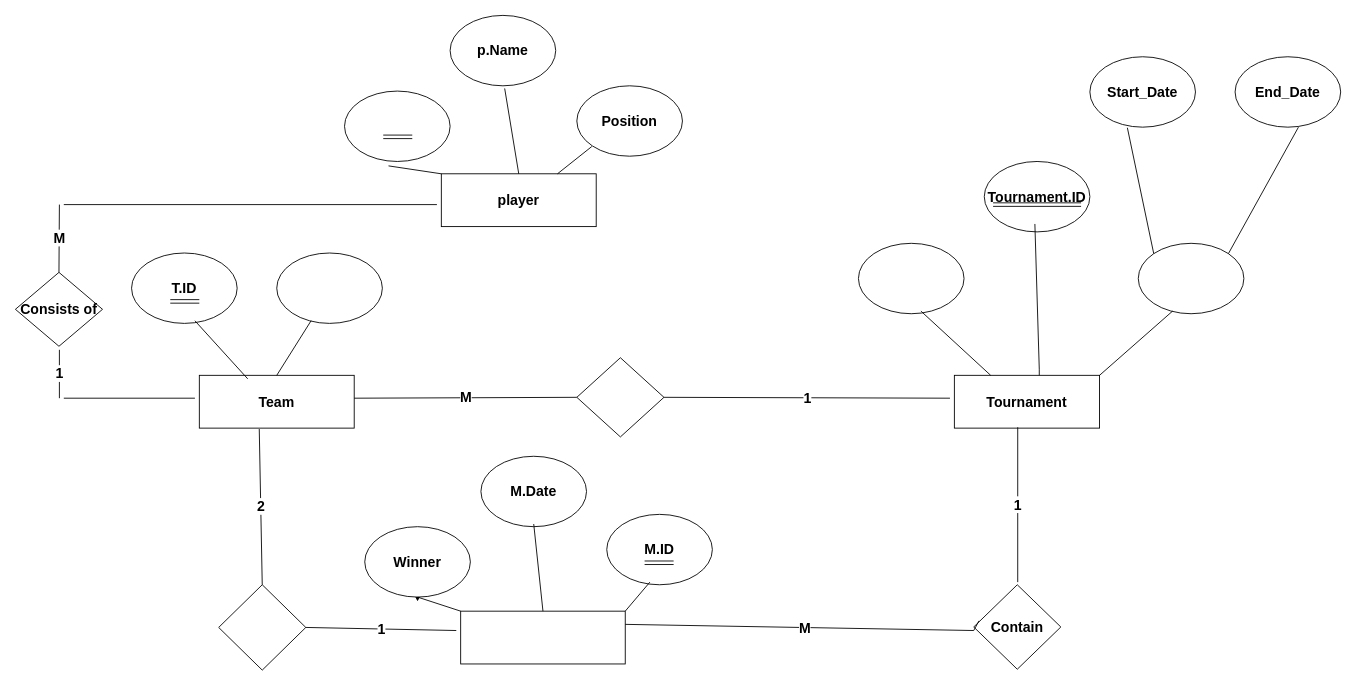
This 1356x686 diagram has some shape labels left out. The shapes that lost their labels are listed below. From the top down, each one's centre as x and y in pixels, then its label:
point 397,125: P.ID
point 329,287: T.Name
point 911,278: Name
point 1190,278: Duration
point 620,397: Participate In
point 262,627: Plays In
point 542,637: Match
